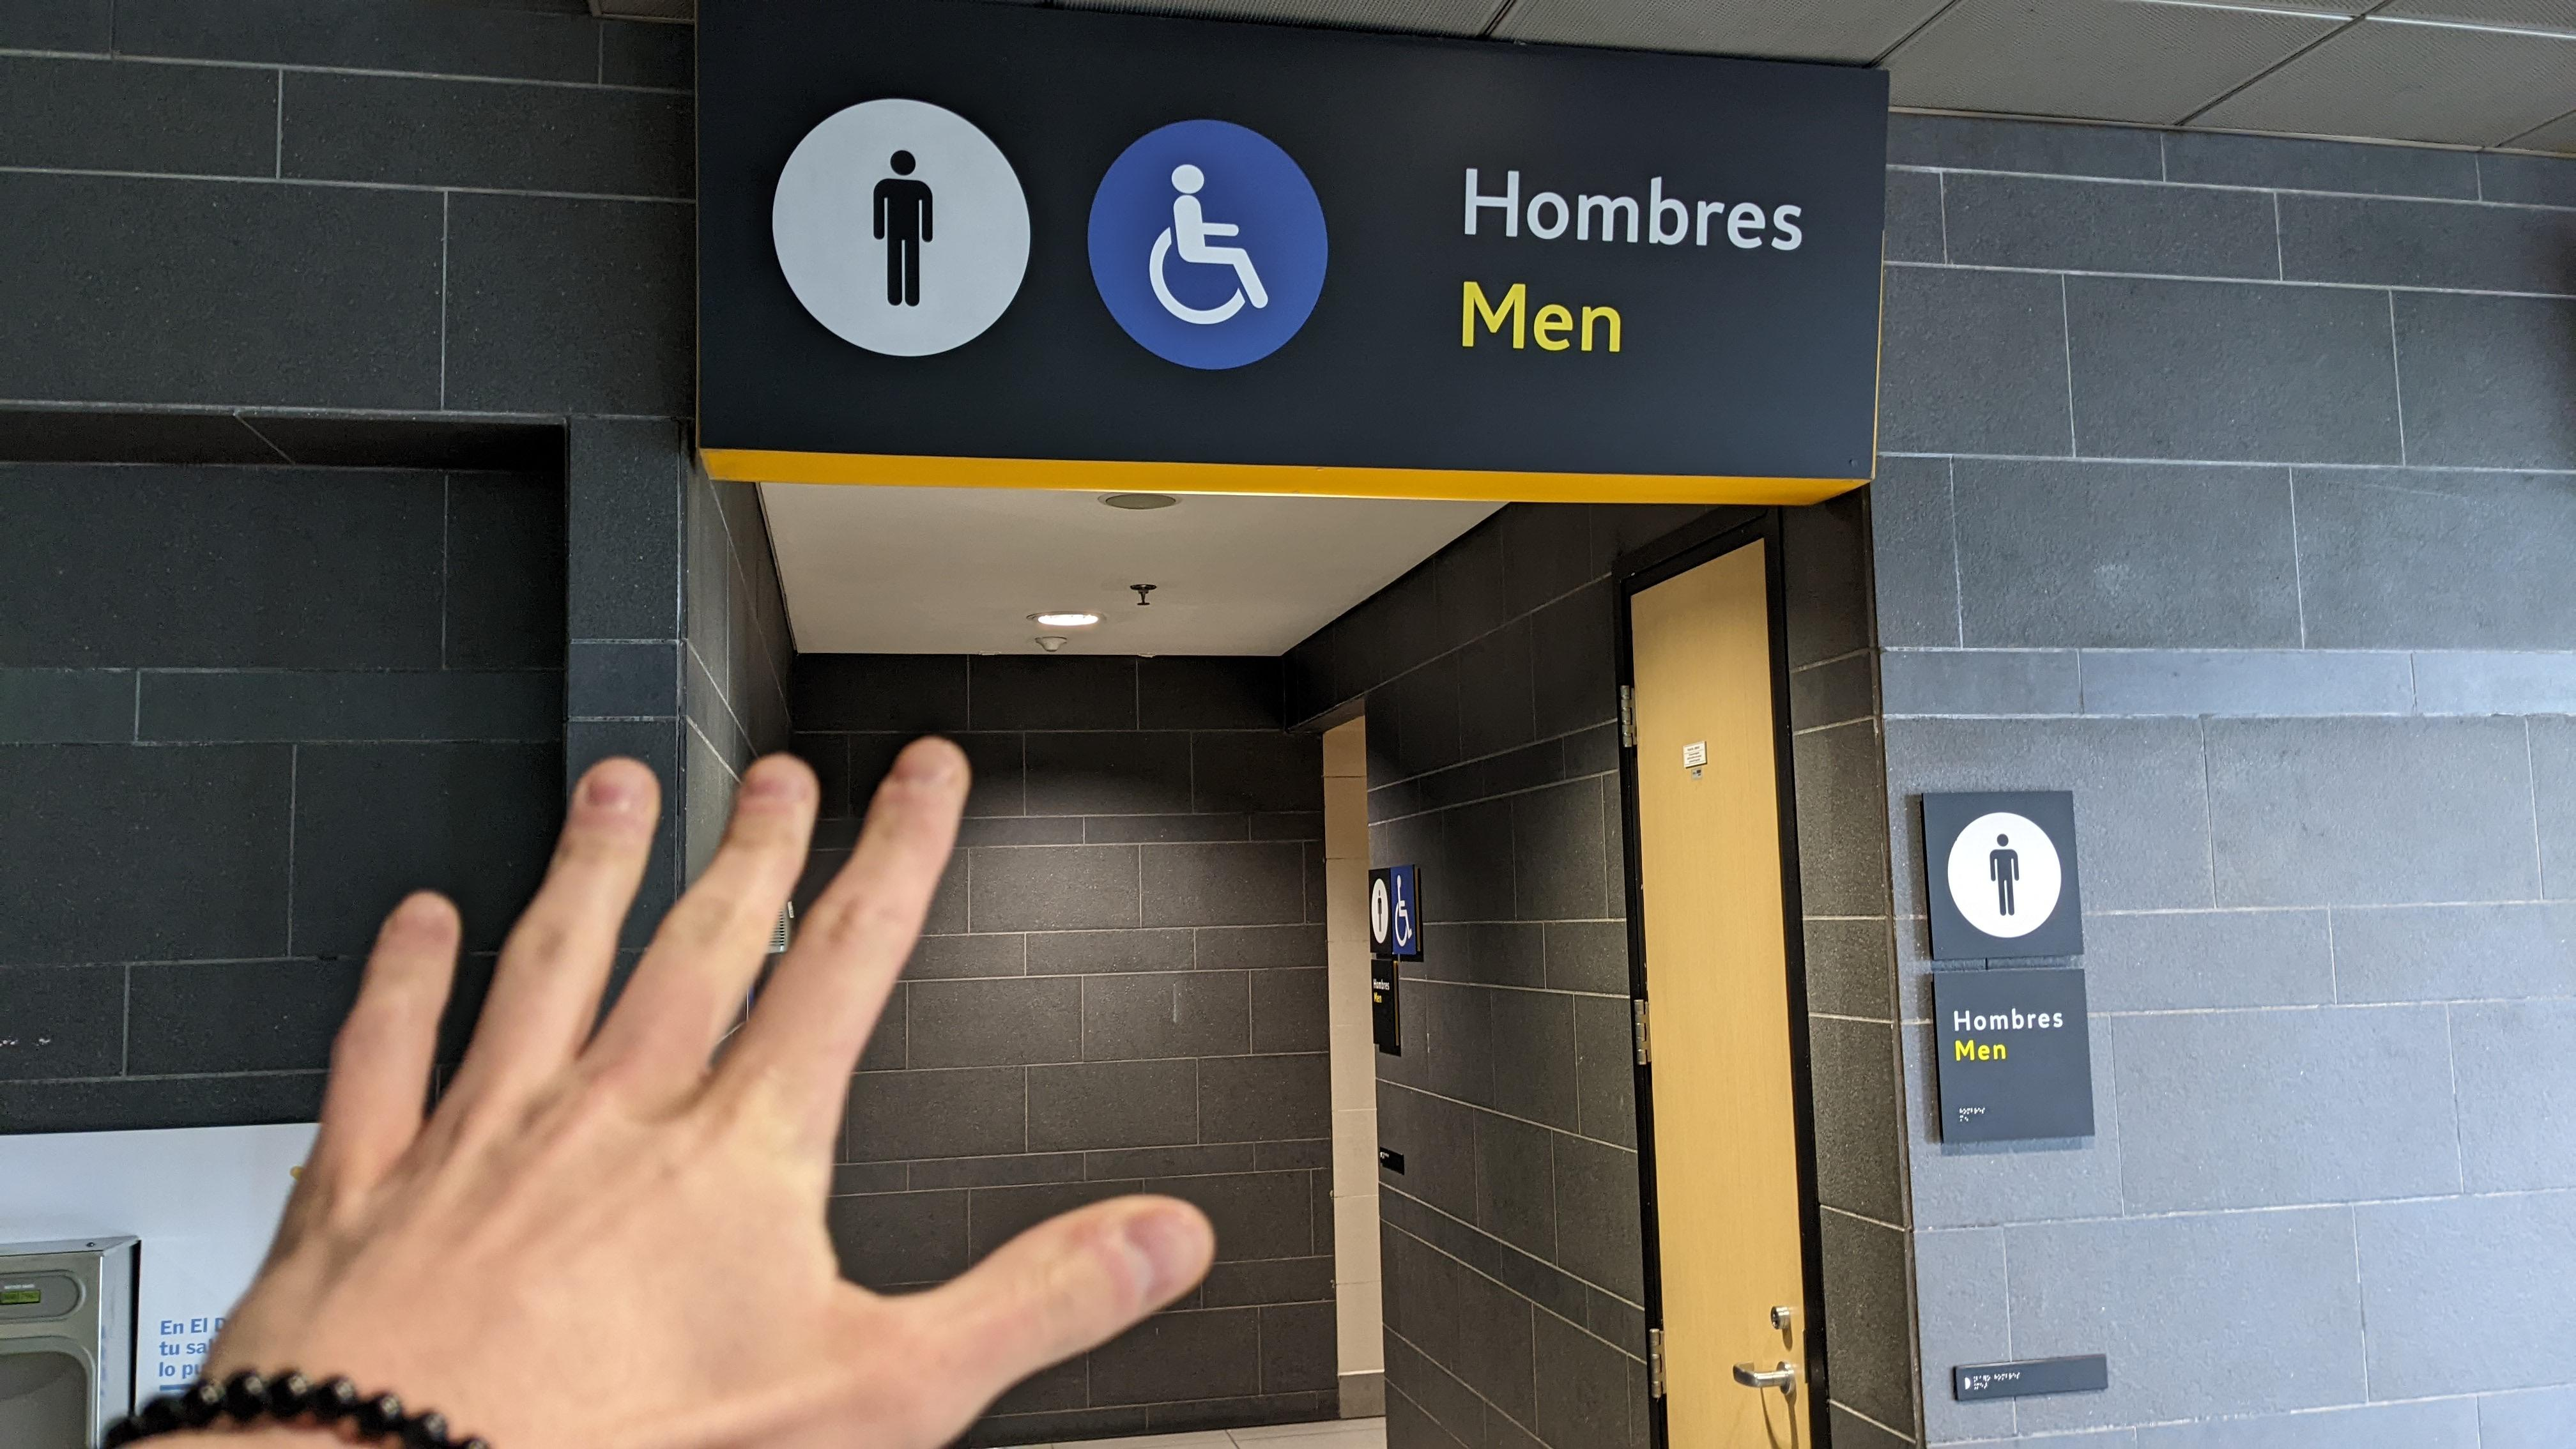handicapped symbol: (1143, 161, 1274, 326), (1392, 874, 1414, 948)
